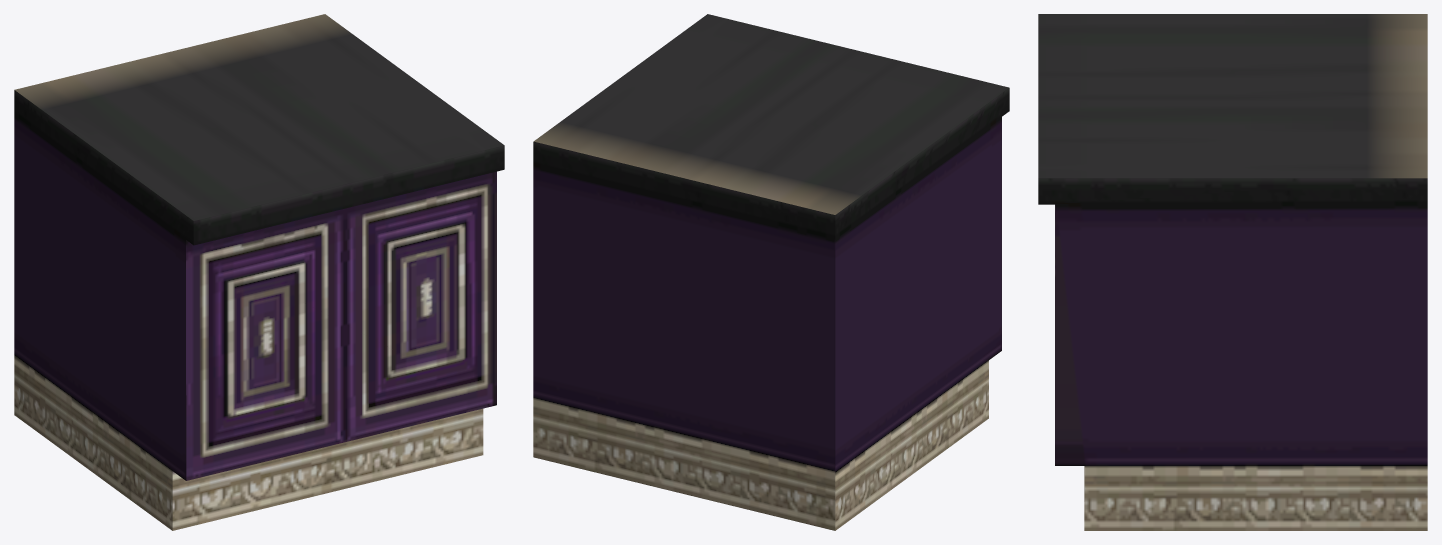
The model's file is furni_0201122_01.FBX.
3 views of the same model, side by side, from view 1: azimuth 30°, elevation 25°; view 2: azimuth 150°, elevation 25°; view 3: azimuth 270°, elevation 25° (orthographic). The views are drawn at different scales.
Parts seen in each view (by area): view 1: furni_0201122_01; view 2: furni_0201122_01; view 3: furni_0201122_01.
Boxes of the visible parts, <box> form: furni_0201122_01: <box>14,14,504,530</box>; furni_0201122_01: <box>533,14,1009,530</box>; furni_0201122_01: <box>1038,14,1427,530</box>.
Size of the model in its own units: 80 by 80 by 80.
1 material, 1 textured.
